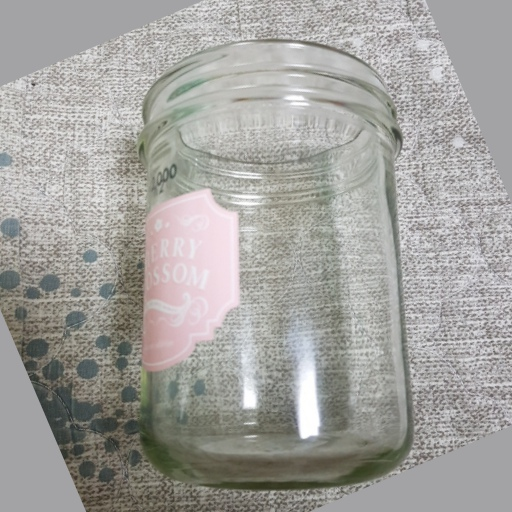Glass_5: (138, 40, 411, 488)
